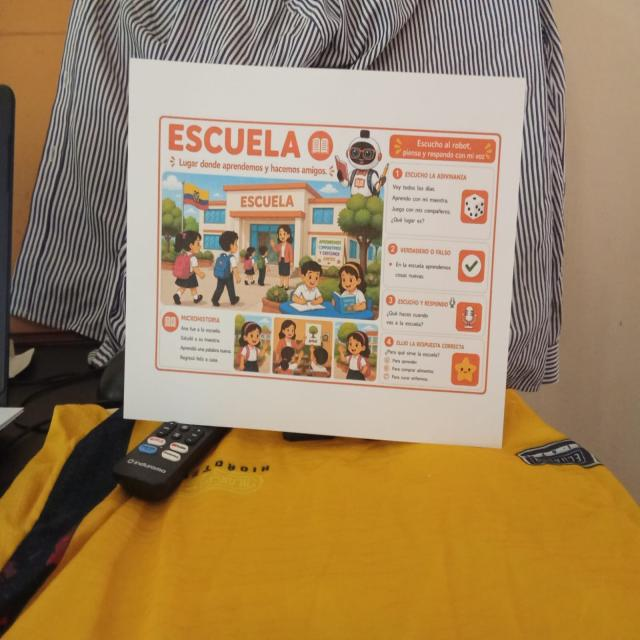escuela: (152, 111, 505, 400)
